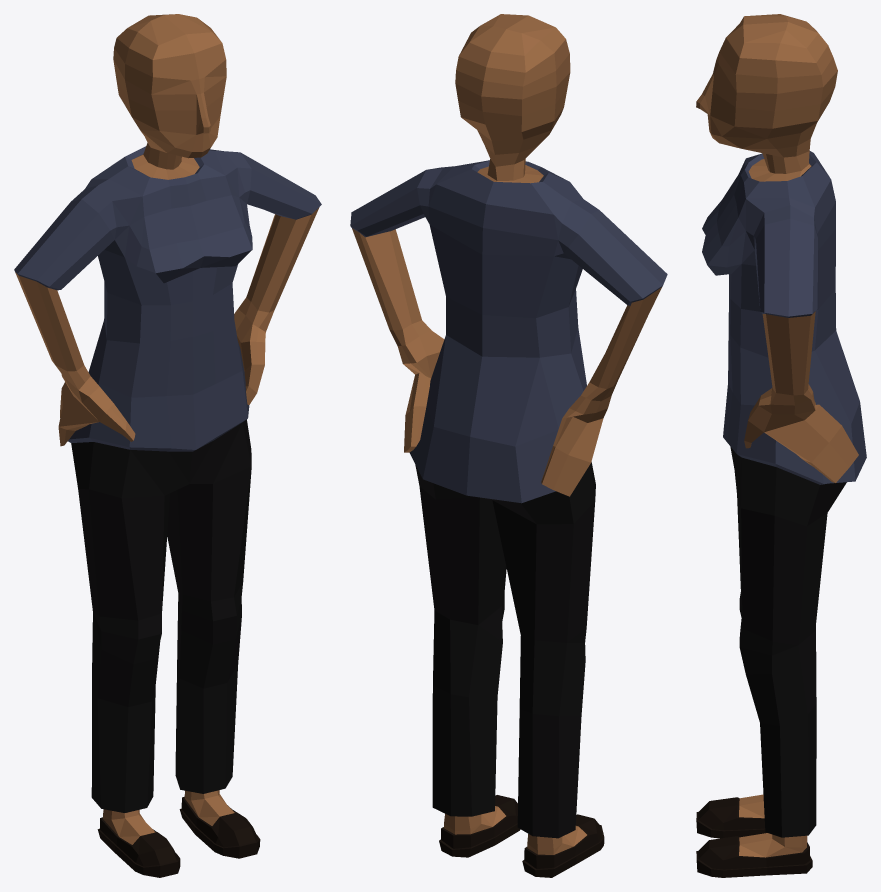
Rendered from club_person_hips.obj.
The picture shows the model from 3 angles, left to right: view 1: azimuth 30°, elevation 25°; view 2: azimuth 150°, elevation 25°; view 3: azimuth 270°, elevation 25°; orthographic projection.
Parts seen in each view (by area): view 1: Female_Standing_Hips_Cylinder.009; view 2: Female_Standing_Hips_Cylinder.009; view 3: Female_Standing_Hips_Cylinder.009.
Boxes of the visible parts, <box> form: Female_Standing_Hips_Cylinder.009: <box>14,14,321,877</box>; Female_Standing_Hips_Cylinder.009: <box>350,14,667,877</box>; Female_Standing_Hips_Cylinder.009: <box>696,14,866,877</box>.
Size of the model in its own units: 1.44 by 3.72 by 0.6972.
